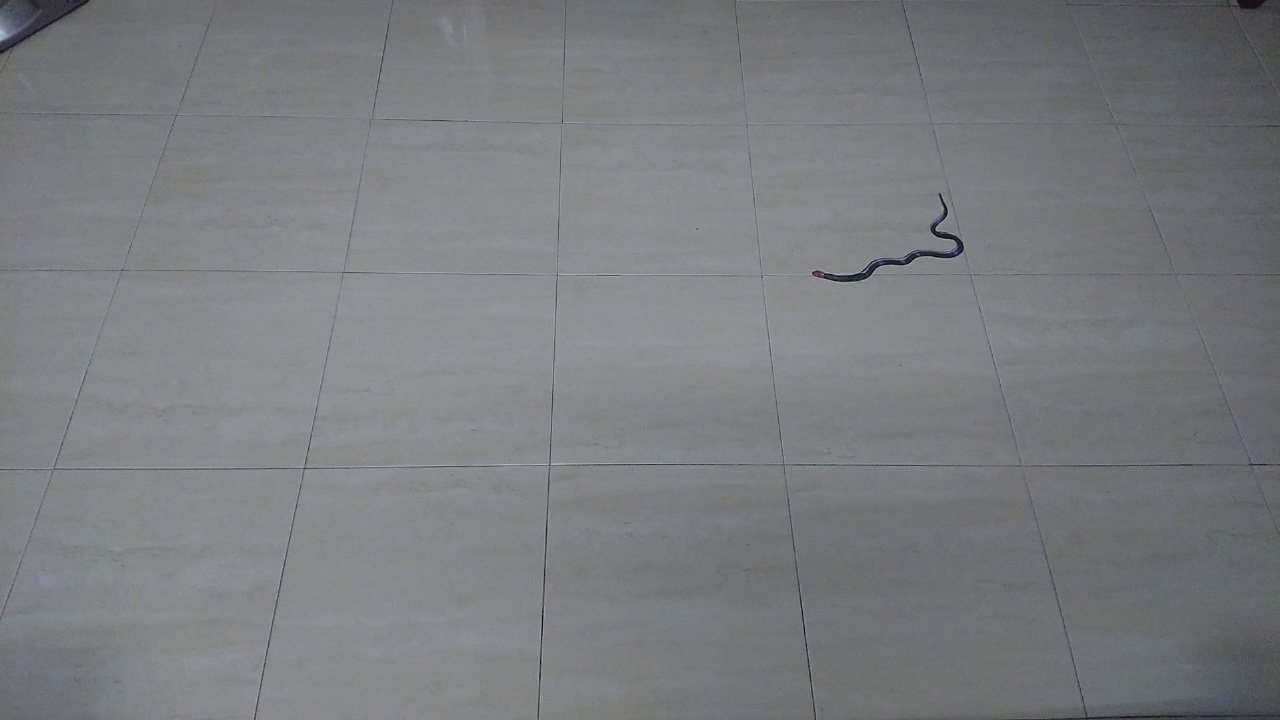snake: (800, 185, 978, 288)
